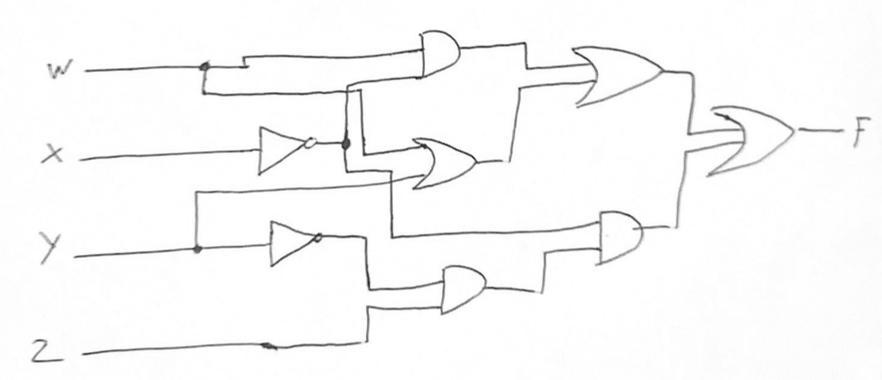AND: (585, 194, 662, 269), (429, 252, 506, 320), (413, 23, 469, 83)
NOT: (249, 117, 326, 178), (260, 215, 338, 270)
OR: (561, 35, 669, 118), (708, 93, 803, 182), (404, 126, 490, 204)
